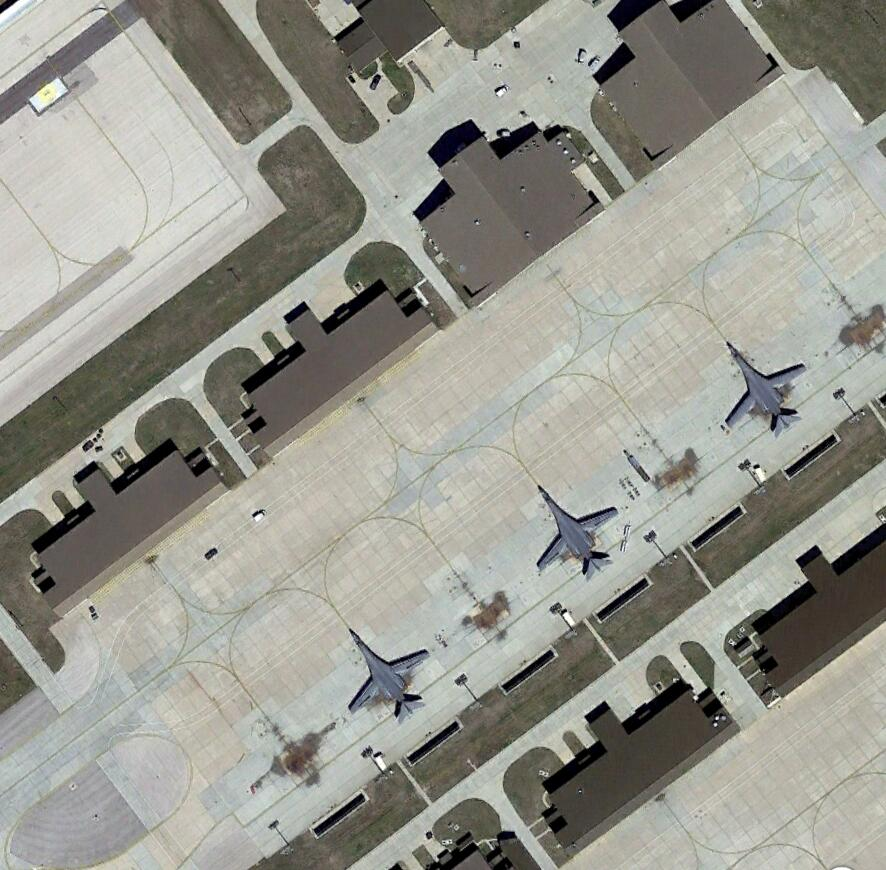A10: (712, 338, 811, 441), (527, 483, 629, 579), (340, 631, 441, 727)
